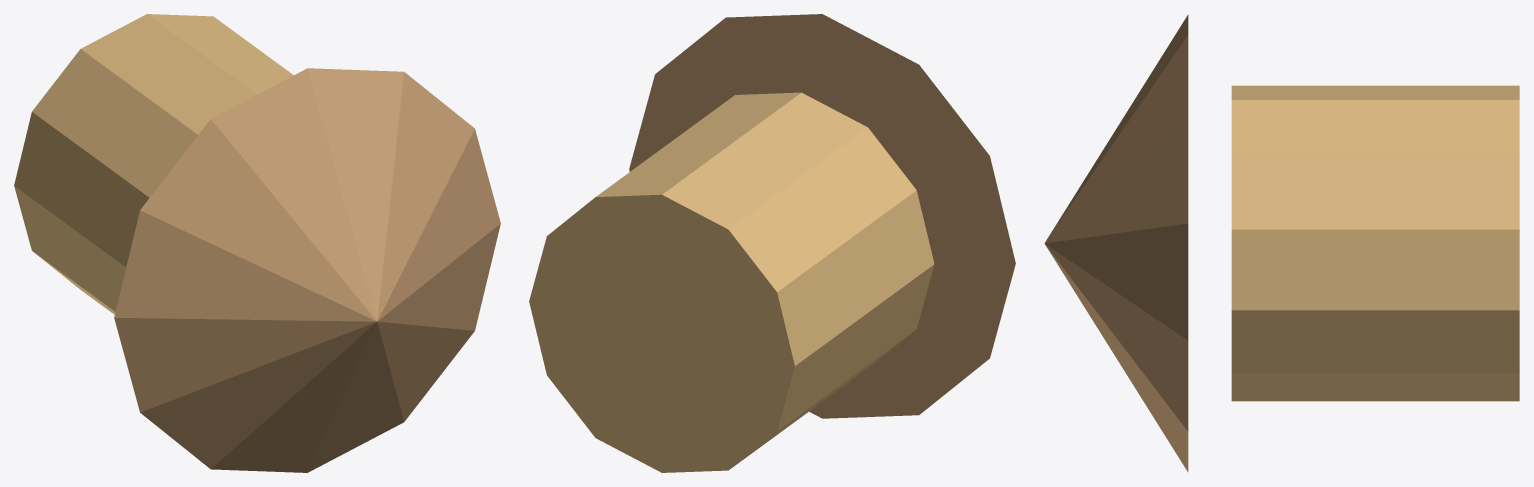
The model's file is hive.glb.
3 renders of one model, left to right at view 1: azimuth 30°, elevation 25°; view 2: azimuth 150°, elevation 25°; view 3: azimuth 270°, elevation 25°, orthographic. The views are drawn at different scales.
Visible parts, largest first — view 1: roof, hive; view 2: hive, roof; view 3: hive, roof.
Part boxes in pixels (bbox=[...]): roof: bbox=[114, 68, 500, 472]; hive: bbox=[14, 14, 293, 314]; hive: bbox=[529, 92, 934, 472]; roof: bbox=[629, 14, 1015, 418]; hive: bbox=[1231, 85, 1519, 401]; roof: bbox=[1044, 14, 1188, 472].
Size of the model in its own units: 1.6 by 1.6 by 1.65.
